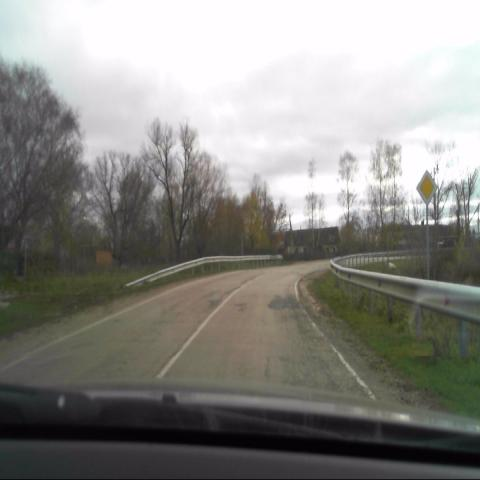2_1: (416, 170, 440, 209)
